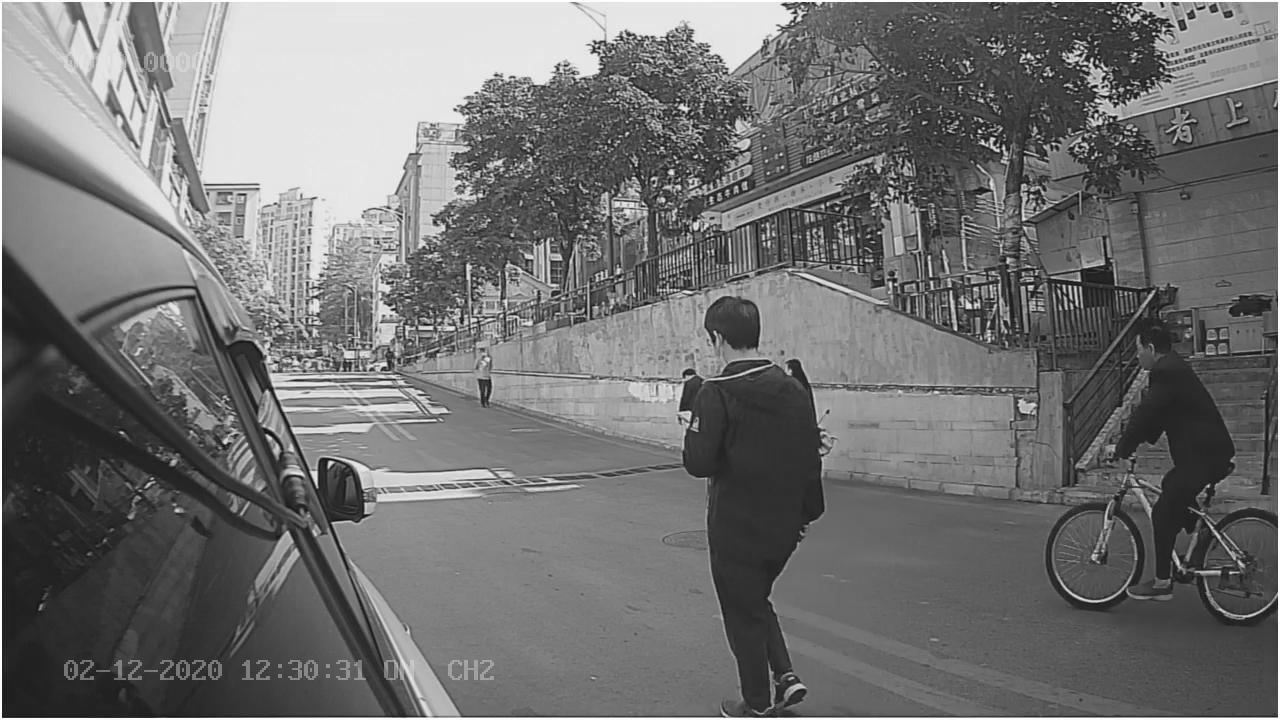person: (675, 290, 823, 481)
